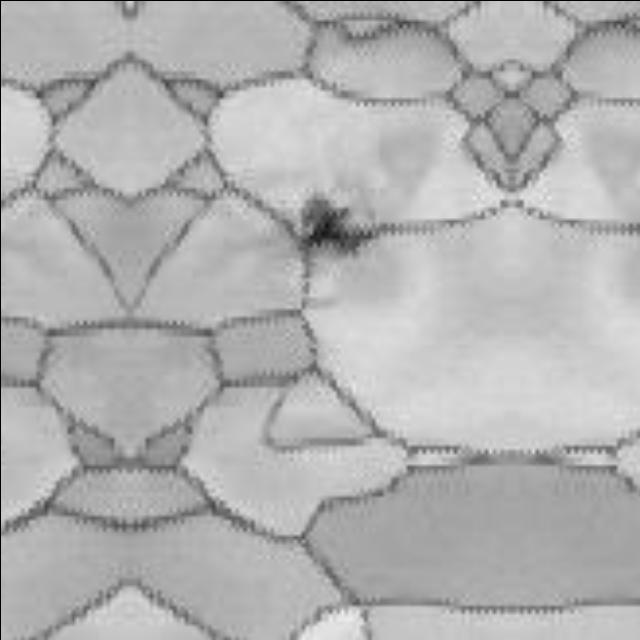good_void: (286, 192, 378, 256)
